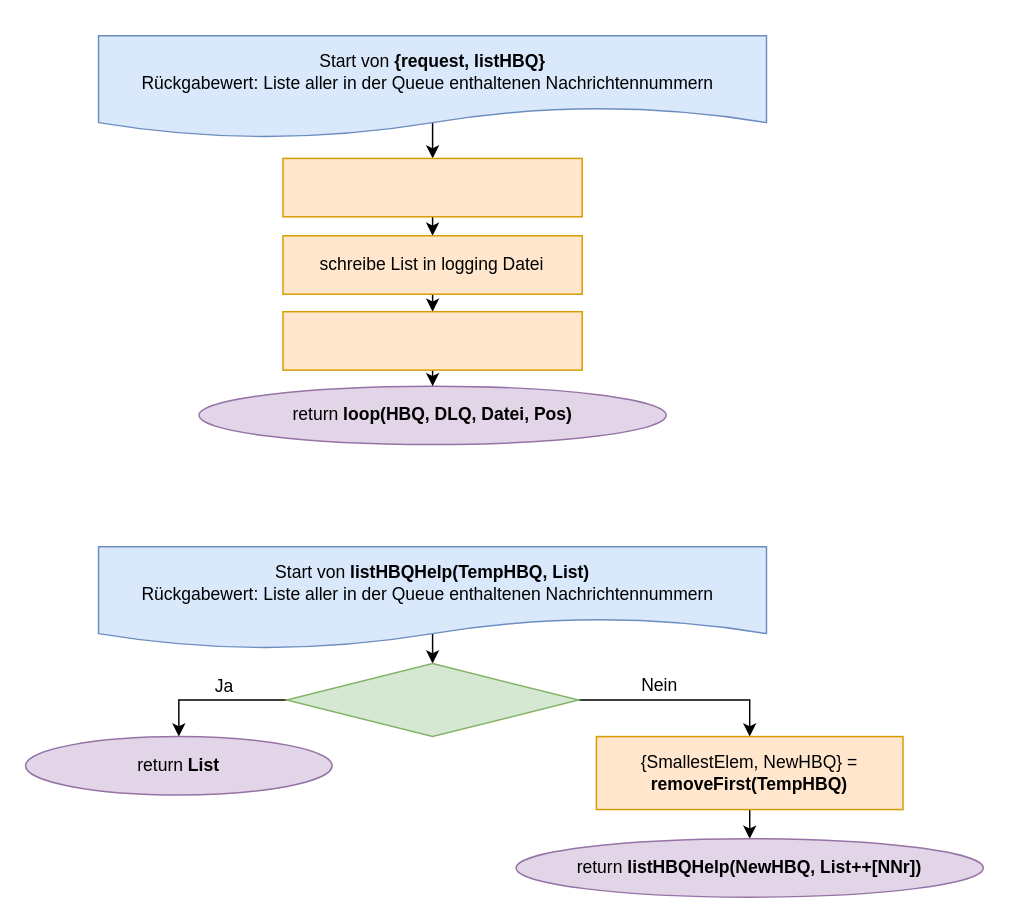
The diagram is 1009 pixels wide and 923 high, and some of its shapes have lost their labels. Each missing label, with the centre of its shape:
From ! {reply, ok}: the point at 431,340
isEmpty(TempHBQ): the point at 432,699
List = listHBQHelp(HBQ, []): the point at 431,187
